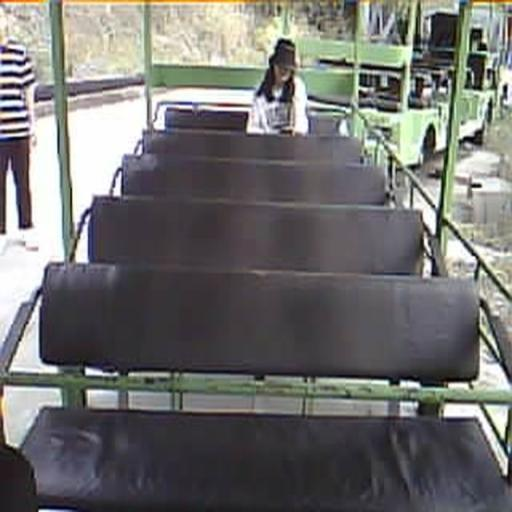persona: (248, 38, 310, 136)
